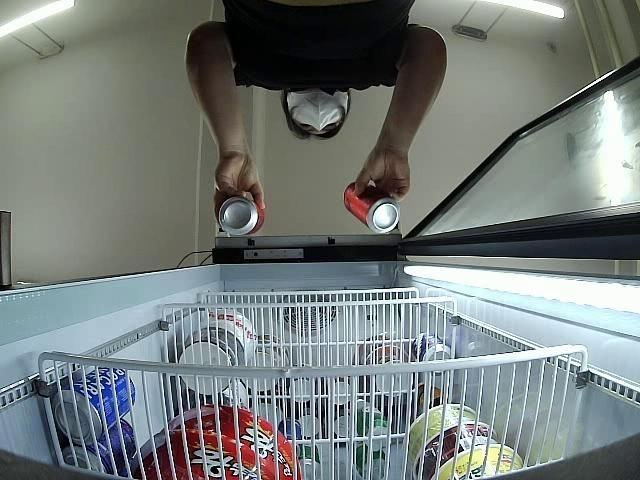11_cocaColaZero: (344, 182, 402, 234), (216, 198, 268, 234)
